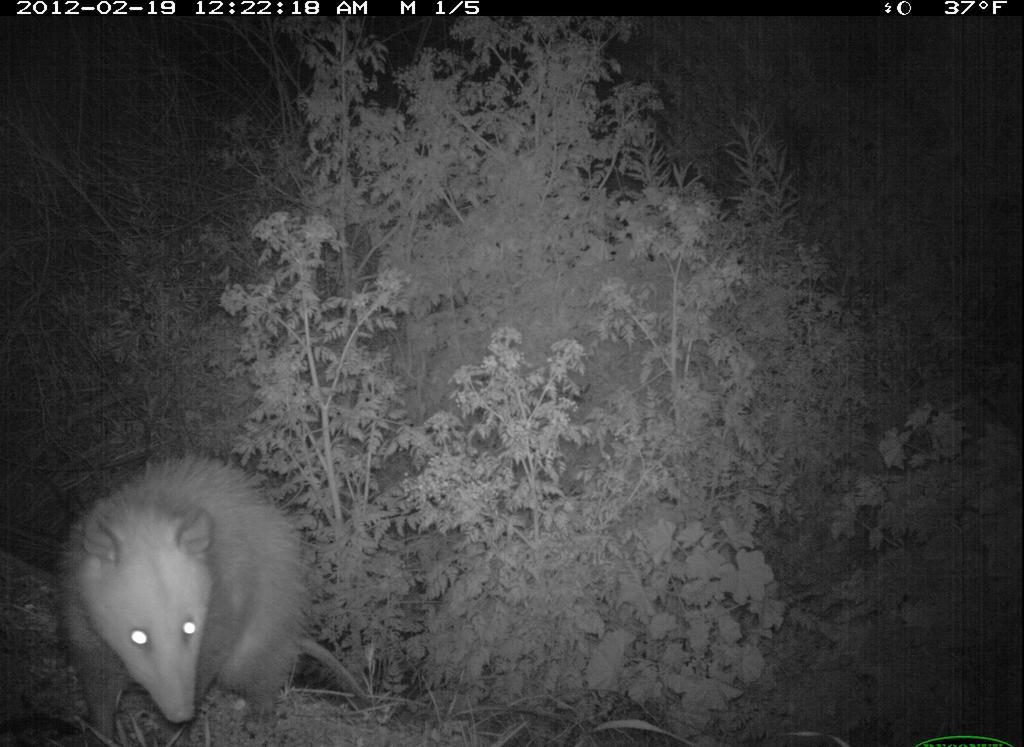opossum: (35, 441, 332, 747)
